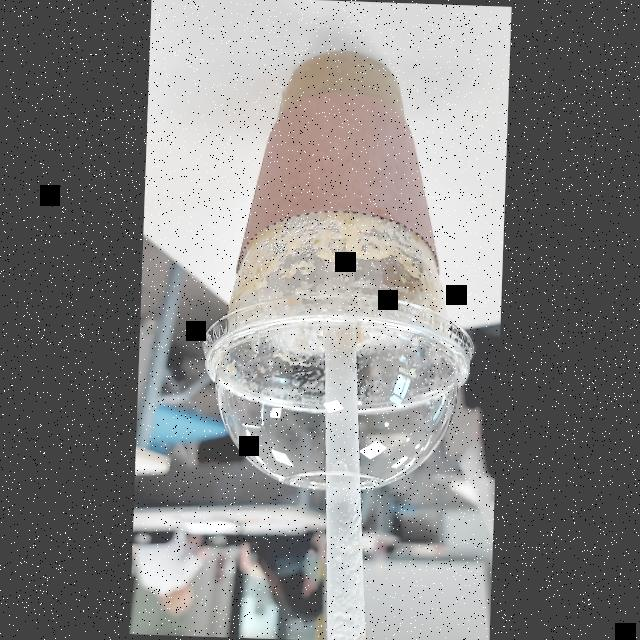plastic_cup: (199, 39, 486, 498)
plastic_cup_lid: (197, 288, 480, 497)
straw: (294, 276, 384, 640)
